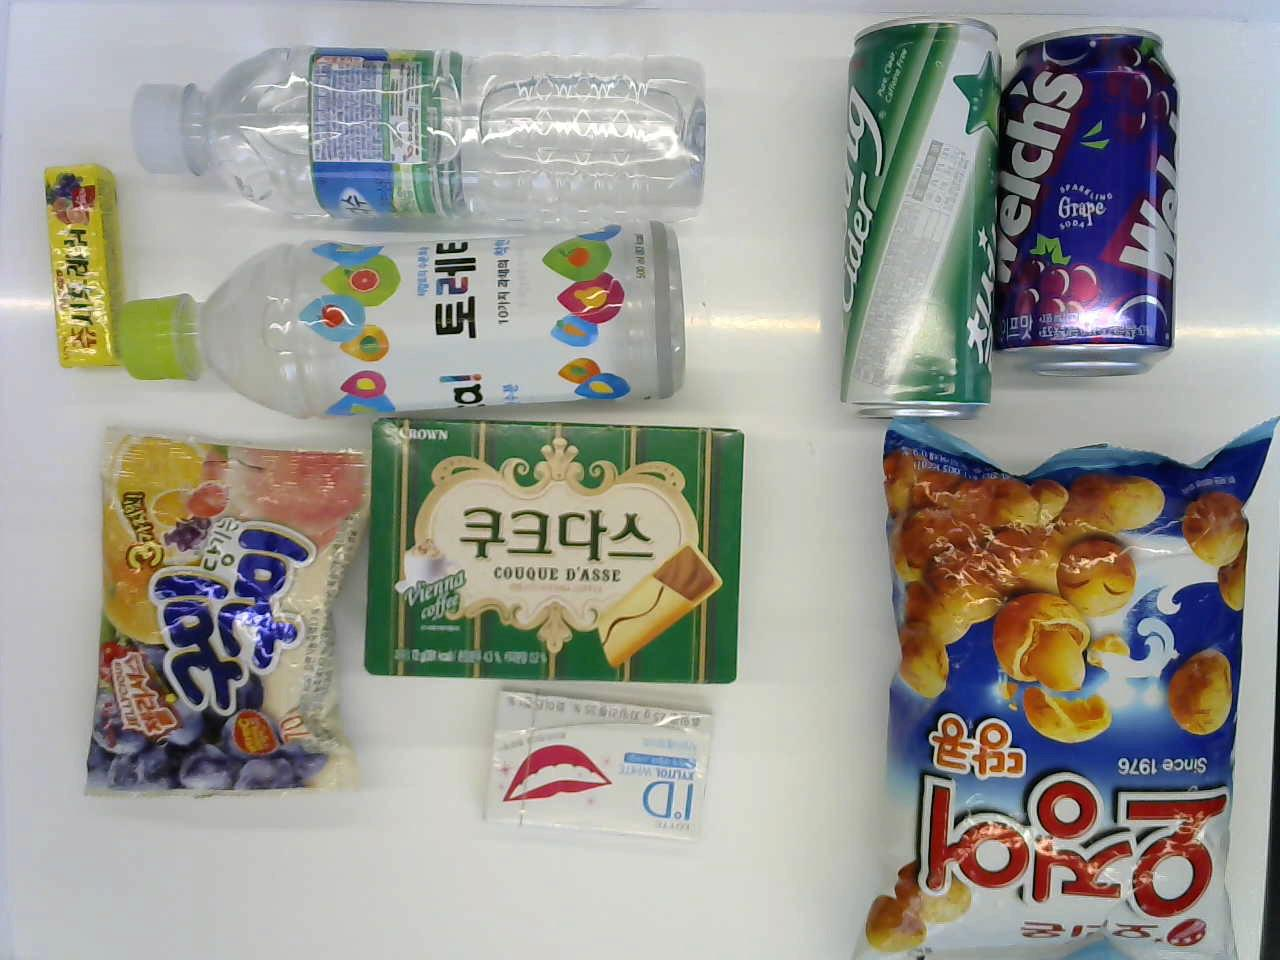ID_gum: (470, 692, 727, 853)
cidar: (819, 9, 1003, 415)
couque_coffee: (364, 417, 743, 693)
gumi_gumi: (69, 435, 365, 802)
juicyfresh: (34, 157, 127, 374)
samdasu: (127, 37, 715, 236)
squid_peanut: (847, 415, 1280, 960)
toreta: (106, 230, 676, 417)
welchs: (992, 29, 1187, 371)
